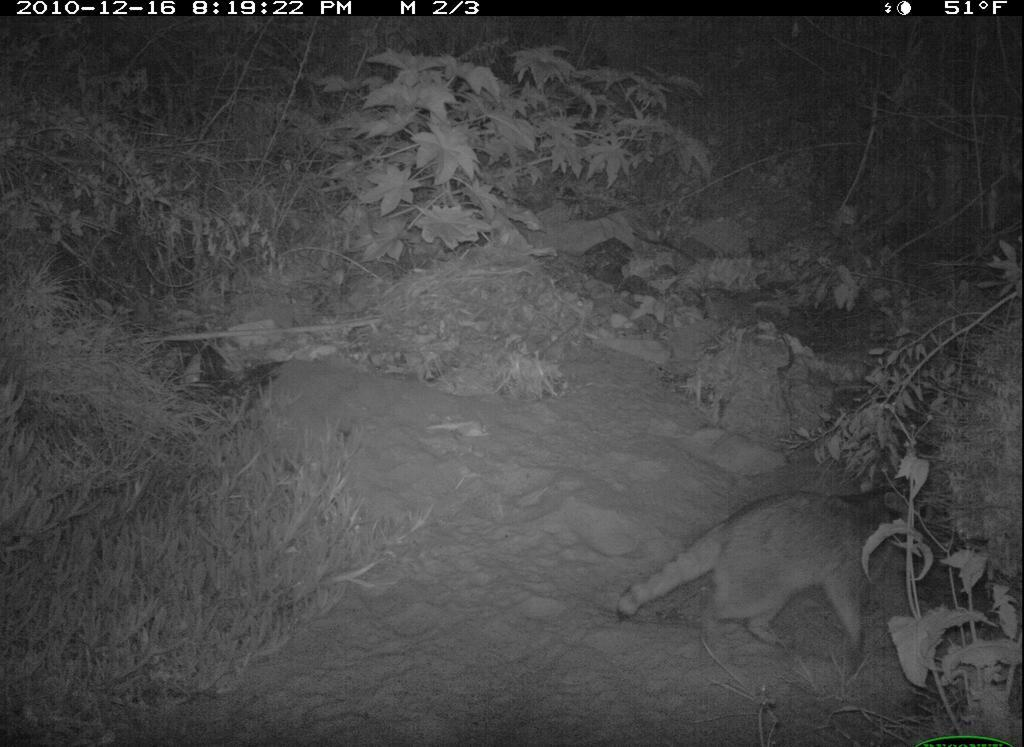raccoon: (610, 488, 944, 676)
